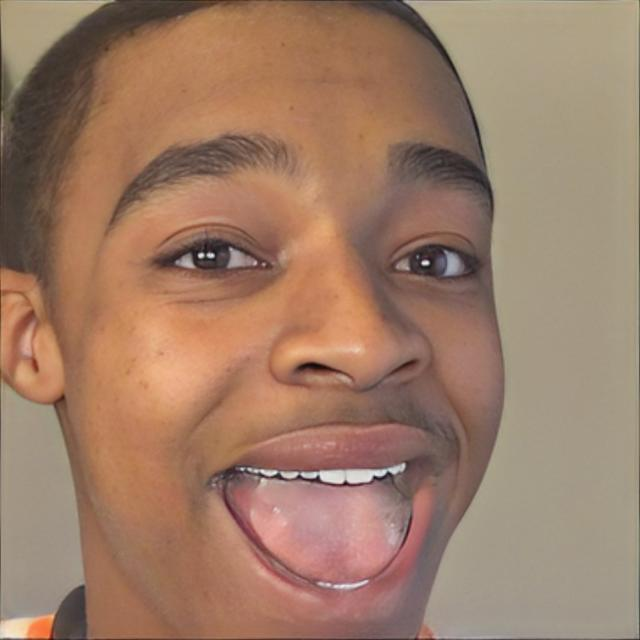surprise: (66, 2, 505, 640)
